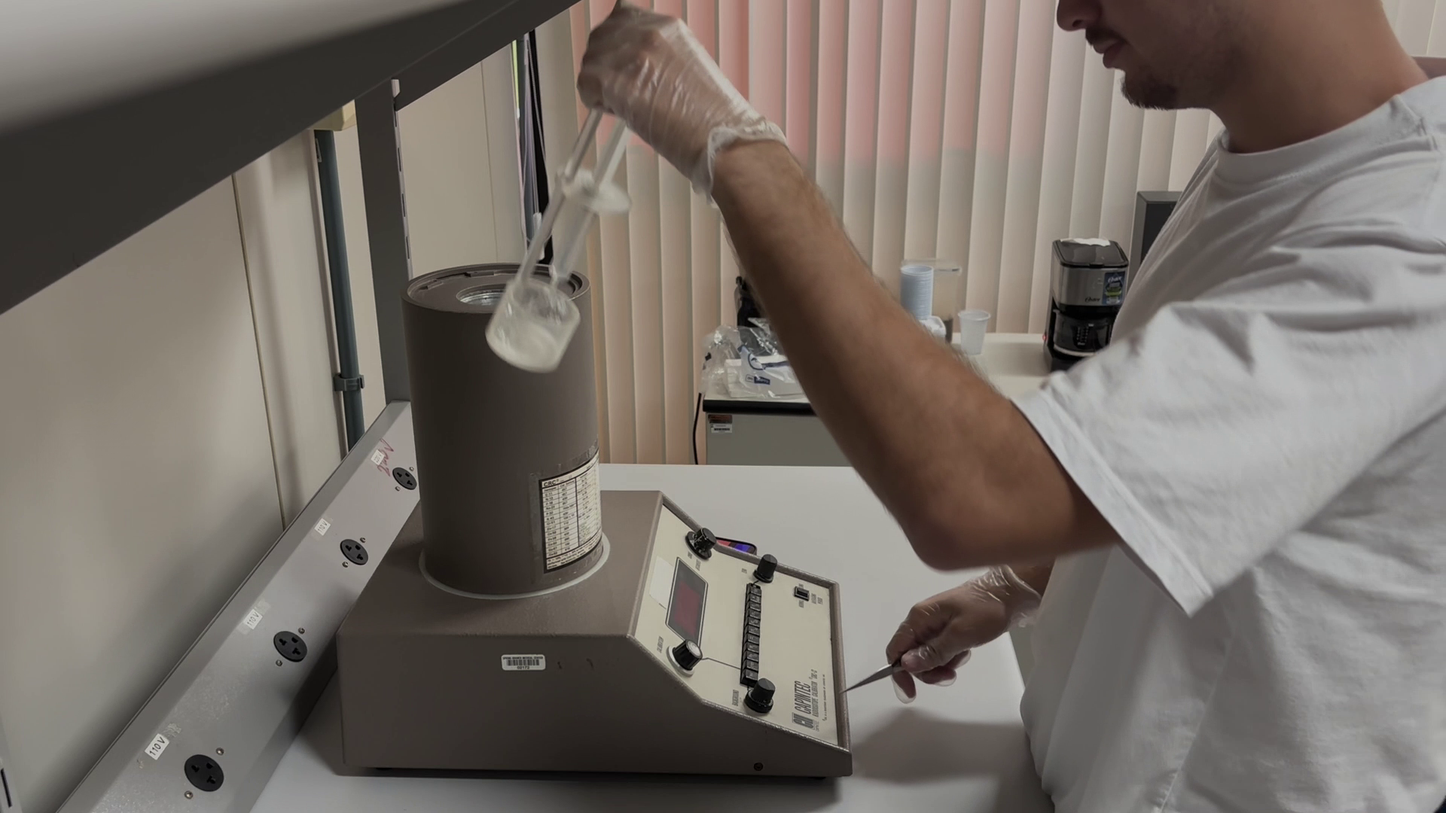Ativimetro: (399, 247, 610, 586)
Cesta: (481, 98, 635, 376)
Com_Luva: (576, 1, 788, 207), (884, 565, 1044, 710)
